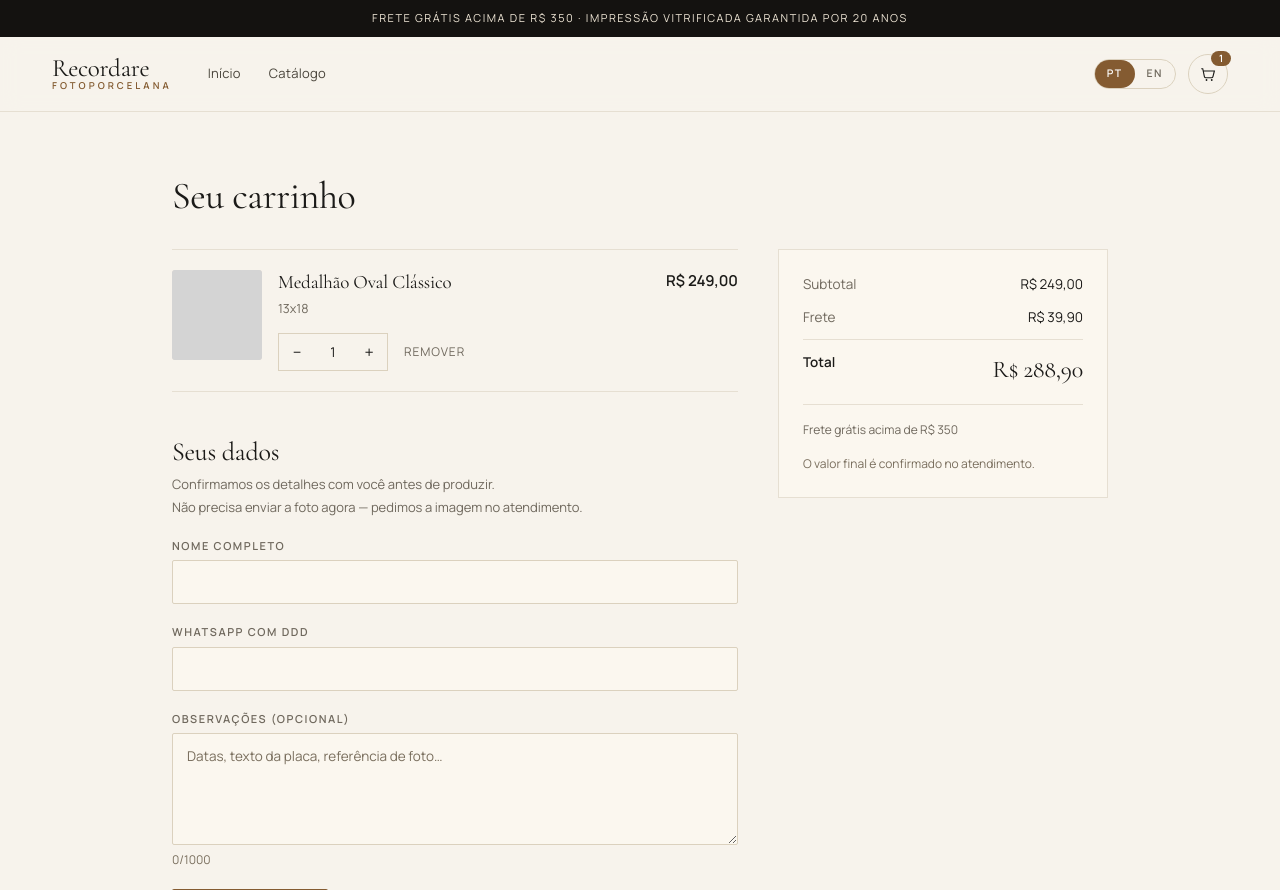
Test: checkout › preserva o carrinho quando o registro falha
In the field labelled "Nome completo": (455, 582) [172,560,738,604], type "Maria Silva"
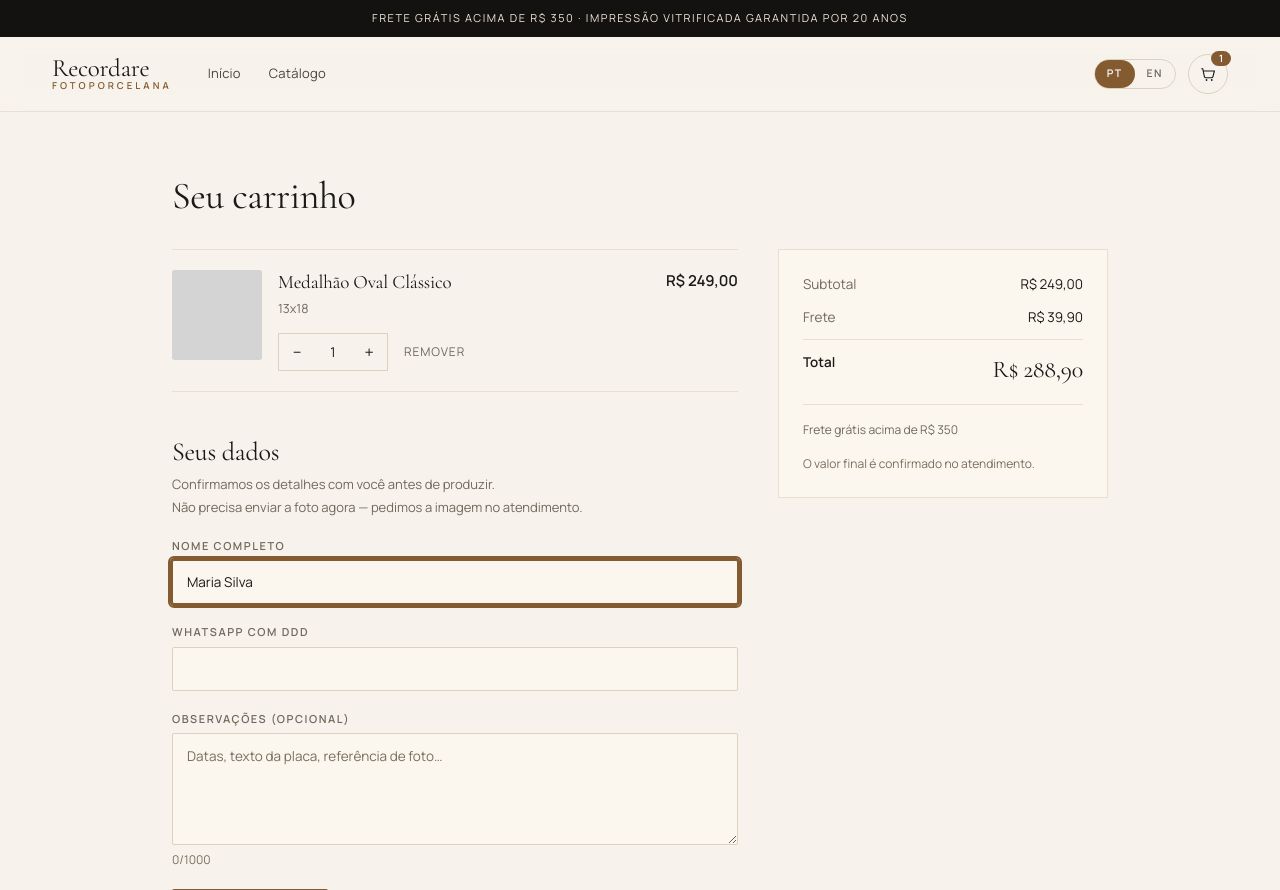
In the field labelled "WhatsApp com DDD": (455, 669) [172,647,738,691], type "44999990000"
(page scrolled)
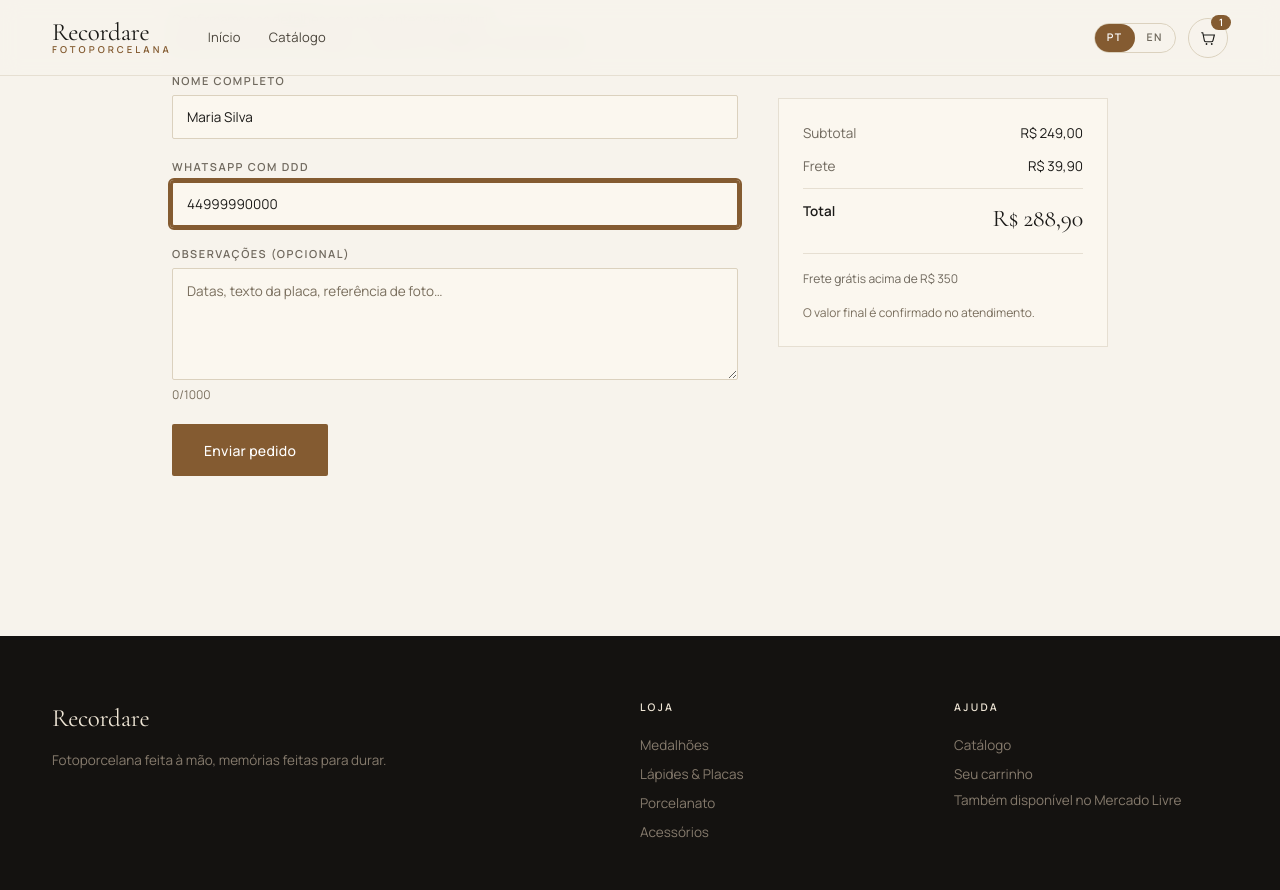
Click the button "Enviar pedido": (250, 450) [172,424,328,476]
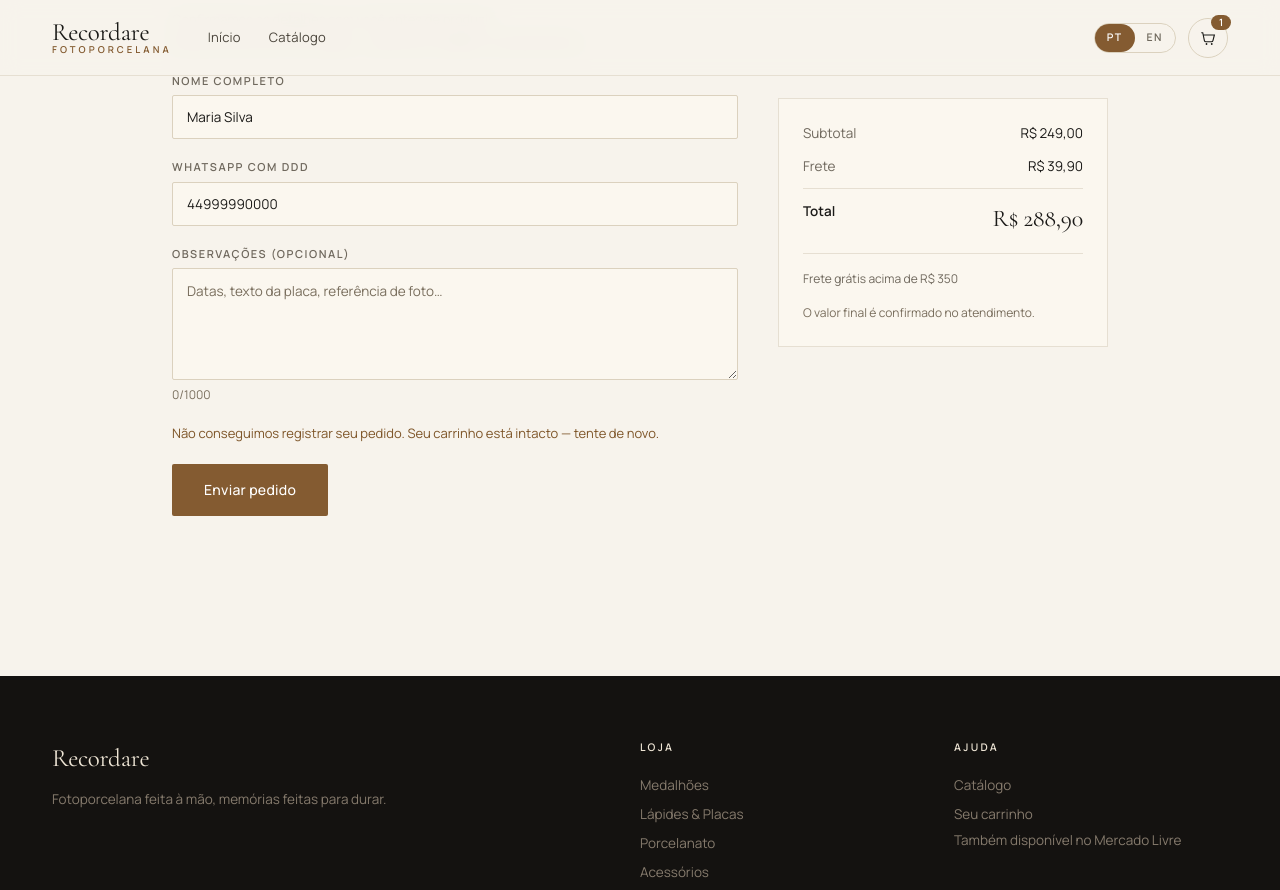
Check: the text "Não conseguimos registrar seu pedido. Seu carrinho está intacto — tente de novo." is shown, box [172,424,738,444]
